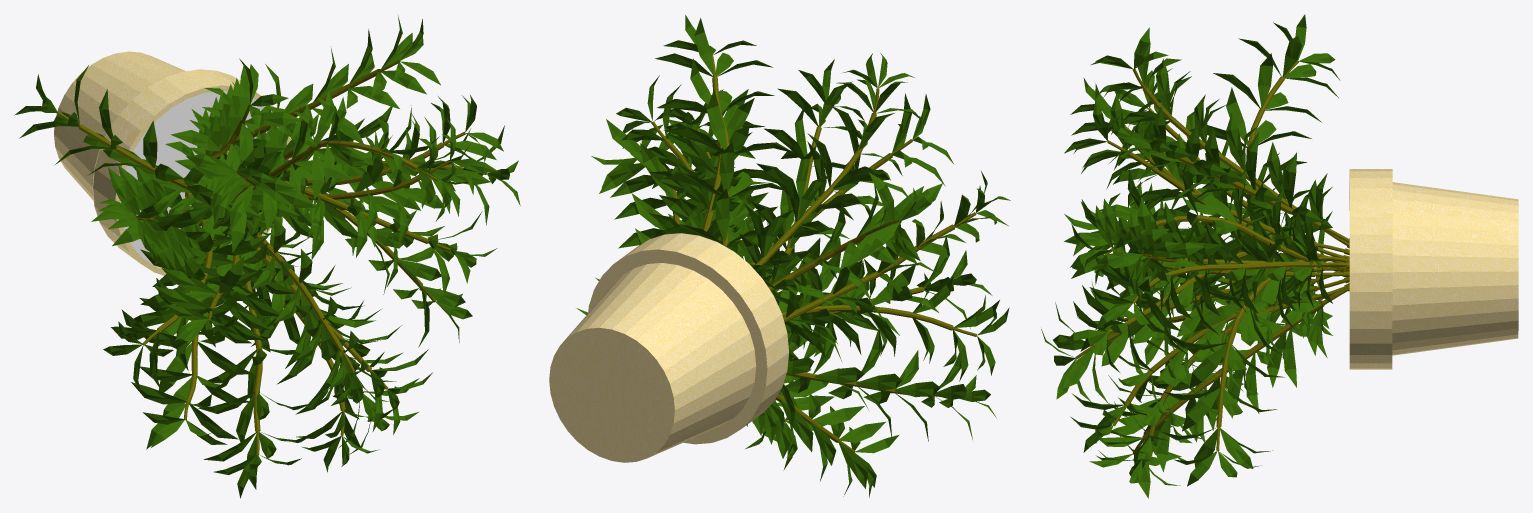
The picture shows the model from 3 angles, left to right: view 1: azimuth 30°, elevation 25°; view 2: azimuth 150°, elevation 25°; view 3: azimuth 270°, elevation 25°; orthographic projection. The views are drawn at different scales.
Visible parts, largest first — view 1: plant; view 2: plant; view 3: plant.
Boxes of the visible parts, x1=… form: plant: x1=14, y1=15, x2=520, y2=498; plant: x1=549, y1=15, x2=1010, y2=497; plant: x1=1041, y1=14, x2=1518, y2=498.
Size of the model in its own units: 61.99 by 62.11 by 62.9.
